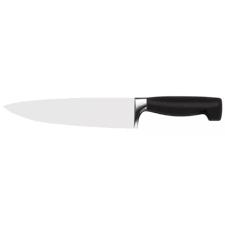Knife: (3, 95, 222, 128)
